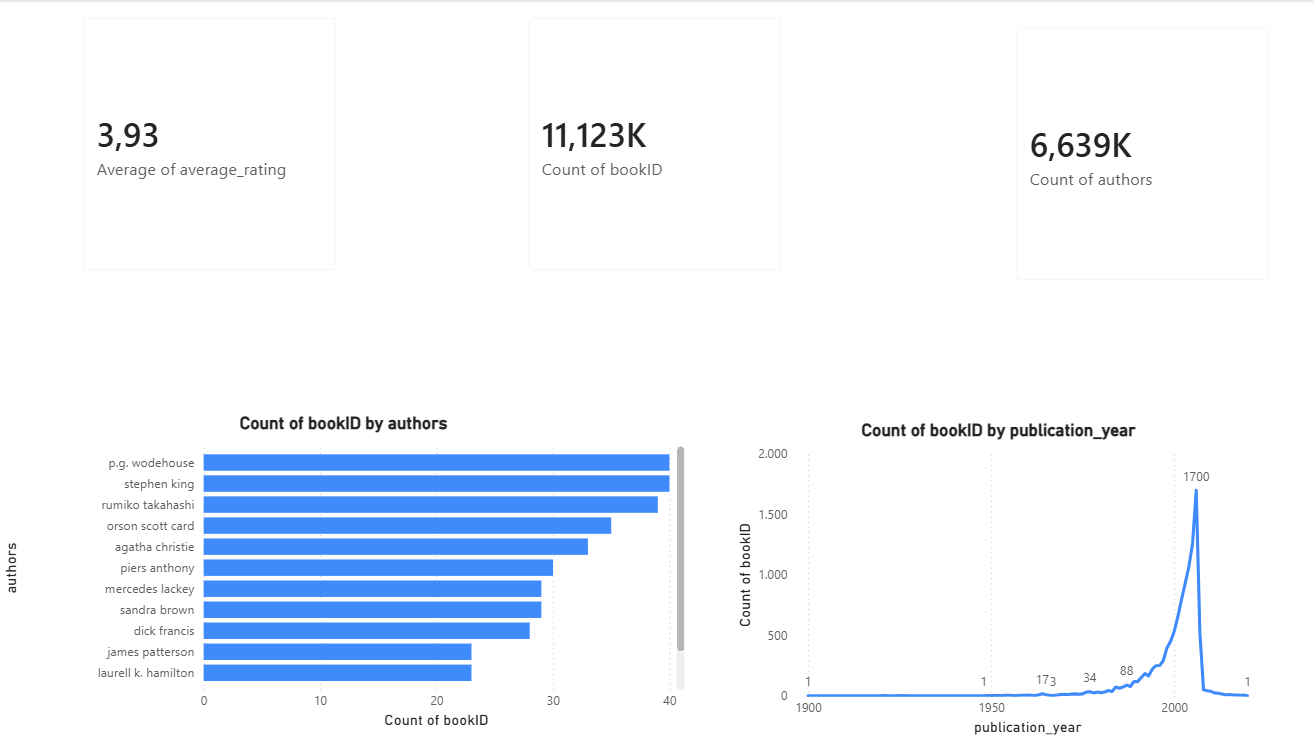

The dashboard page shown, as its layout file describes it:
{"tool":"powerbi","page":{"name":"Executive Overview","canvas":[1280,720],"ordinal":0},"visuals":[{"type":"cardVisual","fields":{"Data":["Avg(Books.average_rating)"]},"box":[67.1,0,280.1,280.1],"z":0},{"type":"cardVisual","fields":{"Data":["CountNonNull(Books.bookID)"]},"box":[499.7,0,280.3,280.3],"z":1000},{"type":"cardVisual","fields":{"Data":["Count(Books.authors)"]},"box":[974.3,9.9,280.3,280.3],"z":2000},{"type":"clusteredBarChart","fields":{"Category":["Books.authors"],"Y":["CountNonNull(Books.bookID)"]},"box":[0,401.7,674,311.2],"z":3000},{"type":"lineChart","fields":{"Category":["Books.publication_year"],"Y":["CountNonNull(Books.bookID)"]},"box":[713.9,408.5,520.4,311.2],"z":4000}]}

Visuals, with their boxes in screenshot pixels (x1, y1, x2, y2), scaled from the page's 1280x720 canvas onto the 1313x740 screenshot:
cardVisual - Avg(Books.average_rating): [x1=69, y1=0, x2=356, y2=288]
cardVisual - CountNonNull(Books.bookID): [x1=513, y1=0, x2=800, y2=288]
cardVisual - Count(Books.authors): [x1=999, y1=10, x2=1287, y2=298]
clusteredBarChart - Books.authors x CountNonNull(Books.bookID): [x1=0, y1=413, x2=691, y2=733]
lineChart - Books.publication_year x CountNonNull(Books.bookID): [x1=732, y1=420, x2=1266, y2=739]
